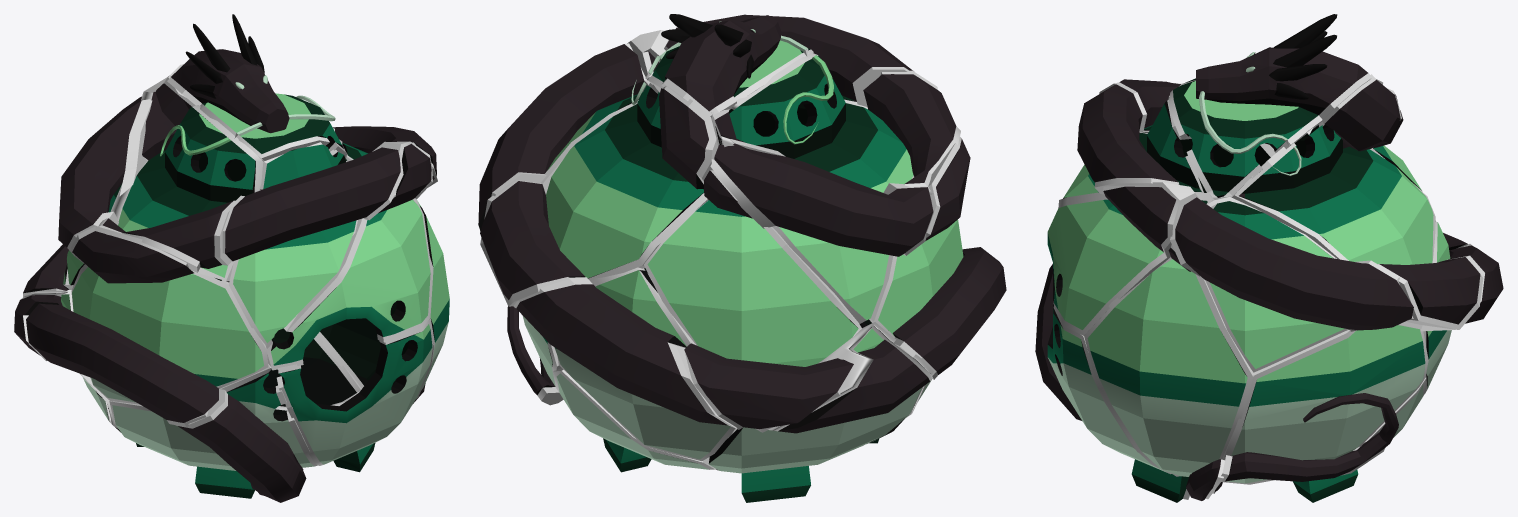
The model's file is v3_dragon.fbx.
3 views of the same model, side by side, from view 1: azimuth 30°, elevation 25°; view 2: azimuth 150°, elevation 25°; view 3: azimuth 270°, elevation 25° (orthographic). The views are drawn at different scales.
Visible parts, largest first — view 1: shard9, shard4, shard11, shard8, shard14, shard1, shard3, shard12, gold11, shard7, gold14, shard2 (+11 smaller); view 2: shard10, shard5, shard6, shard11, shard12, shard16, shard9, shard13, shard1, shard4, gold5, shard7 (+12 smaller); view 3: shard15, shard5, shard13, shard2, shard1, shard14, shard4, shard3, gold5, shard6, gold14, gold15 (+11 smaller).
Part boxes in pixels (<box>): shard9: <box>26,231,263,422</box>; shard4: <box>225,144,400,342</box>; shard11: <box>102,83,255,282</box>; shard8: <box>112,372,314,502</box>; shard14: <box>271,143,431,365</box>; shard1: <box>171,14,346,160</box>; shard3: <box>279,324,432,472</box>; shard12: <box>58,96,141,285</box>; gold11: <box>98,77,264,281</box>; shard7: <box>263,328,356,406</box>; gold14: <box>265,141,432,370</box>; shard2: <box>320,302,396,385</box>; shard10: <box>647,170,858,429</box>; shard5: <box>480,80,708,299</box>; shard6: <box>516,270,730,459</box>; shard11: <box>715,55,956,192</box>; shard12: <box>714,143,933,320</box>; shard16: <box>708,322,929,502</box>; shard9: <box>878,139,1006,374</box>; shard13: <box>478,44,644,231</box>; shard1: <box>648,14,810,111</box>; shard4: <box>666,14,912,101</box>; gold5: <box>480,83,717,306</box>; shard7: <box>556,373,708,472</box>; shard15: <box>1087,248,1247,500</box>; shard5: <box>1239,80,1480,324</box>; shard13: <box>1175,197,1413,368</box>; shard2: <box>1214,325,1425,493</box>; shard1: <box>1173,14,1367,197</box>; shard14: <box>1047,186,1207,329</box>; shard4: <box>1063,84,1204,198</box>; shard3: <box>1047,264,1188,502</box>; gold5: <box>1232,74,1483,329</box>; shard6: <box>1426,222,1503,389</box>; gold14: <box>1053,182,1214,335</box>; gold15: <box>1084,244,1253,499</box>.
Size of the model in its own units: 15.02 by 14.86 by 14.53.
